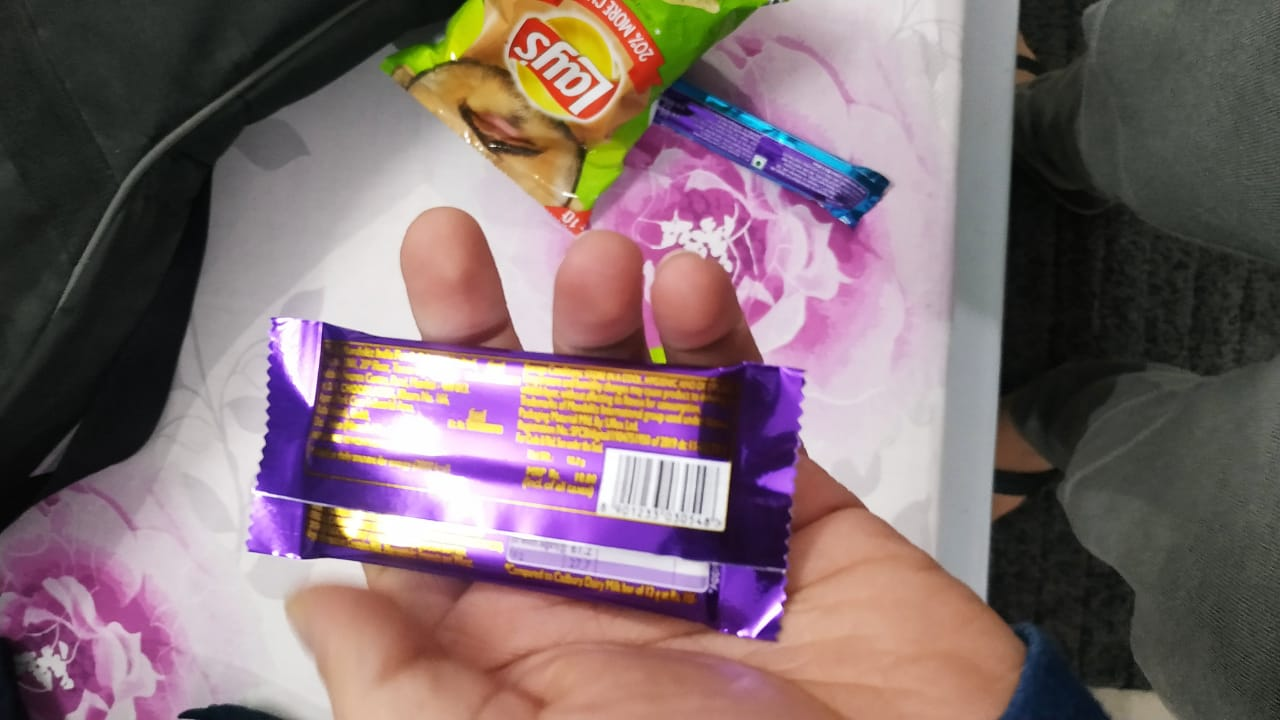dairy milk: (243, 308, 816, 649)
lays chips: (375, 1, 736, 227)
perk: (654, 73, 923, 227)
